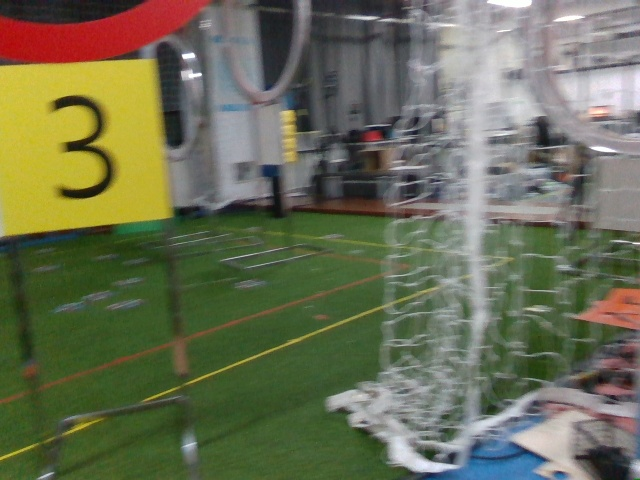target: (9, 74, 157, 219)
